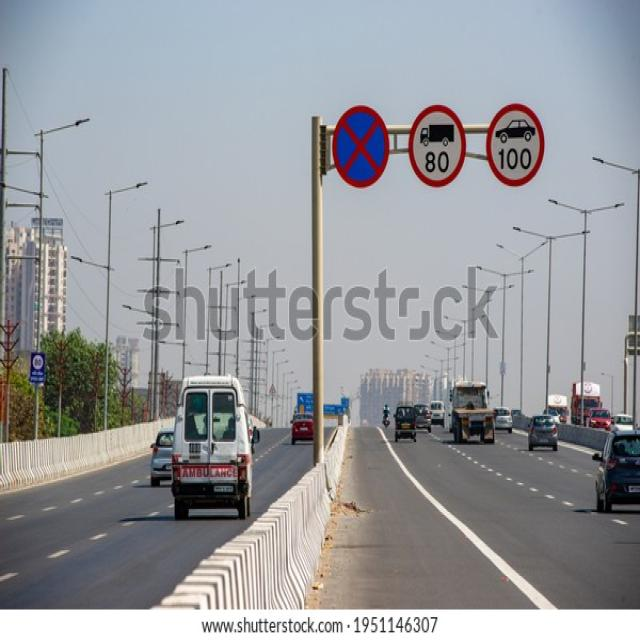ambulance: (175, 374, 250, 514)
